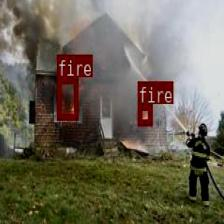fire: (56, 76, 77, 119), (137, 102, 151, 125)
